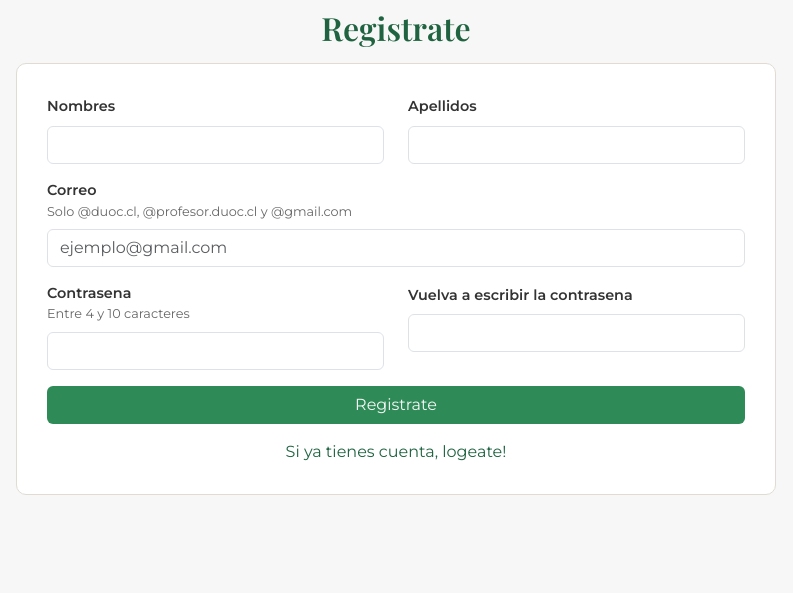
Scenario: Vista Registro › avisa si las contrasenas no coinciden
Type "Ana" into the field labelled "Nombres" at (216, 145), box [47,126,384,164]
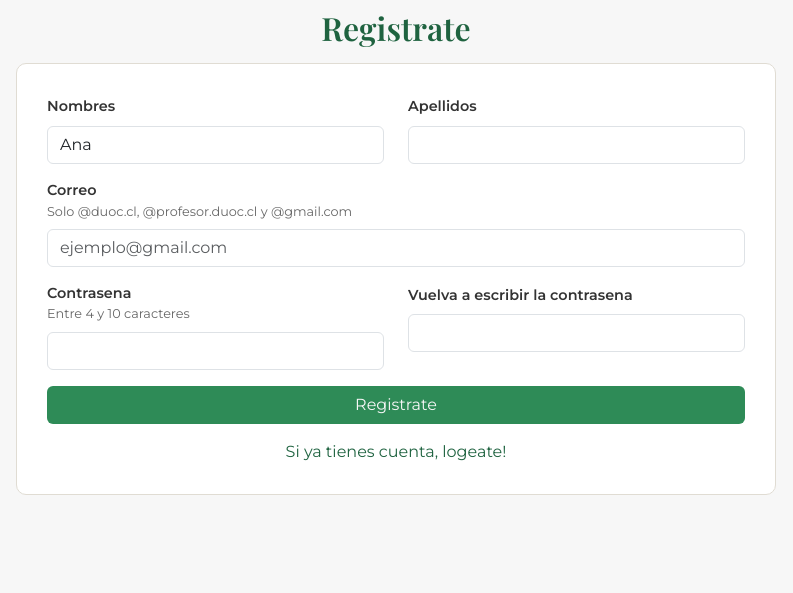
Type "Perez Soto" into the field labelled "Apellidos" at (576, 145), box [408,126,745,164]
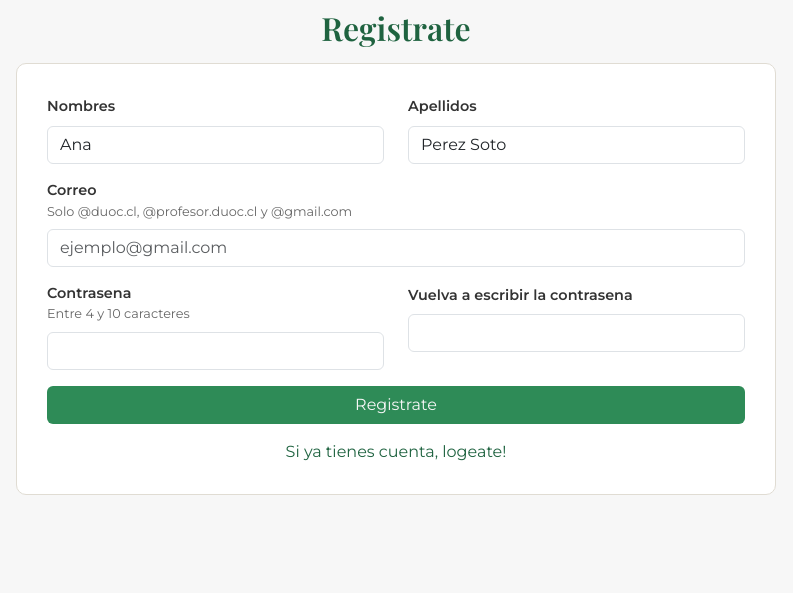
Type "ana@gmail.com" into the field labelled "Correo Solo @duoc.cl, @profesor.duoc.cl y @gmail.com" at (396, 248), box [47,229,745,267]
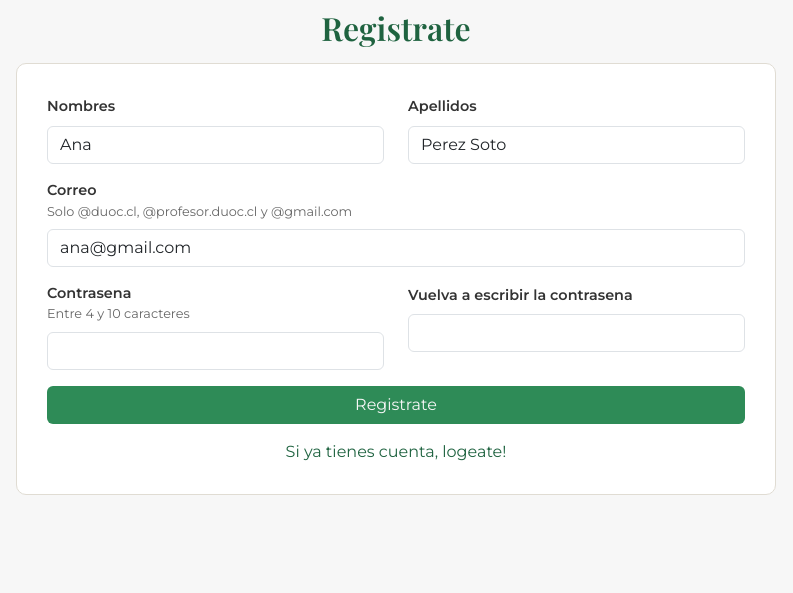
Type "clave1" into the password field labelled "Contrasena Entre 4 y 10 caracteres" at (216, 351), box [47,332,384,370]
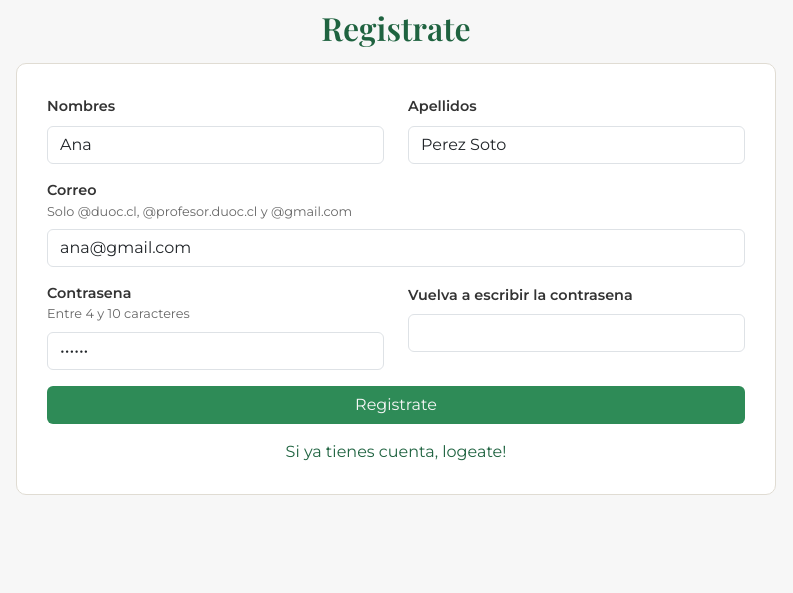
Type "otra1" into the password field labelled "Vuelva a escribir la contrasena" at (576, 333), box [408,314,745,352]
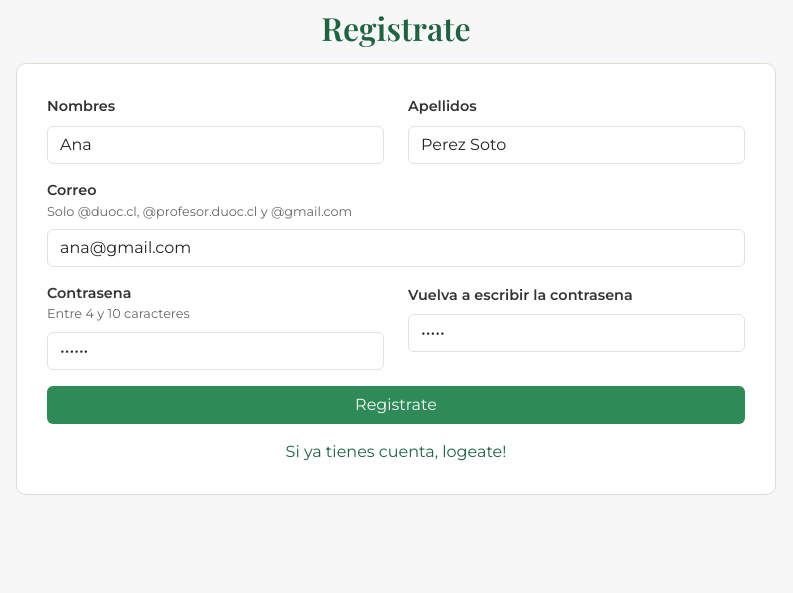
Click the button "Registrate" at (396, 405), box [47,386,745,424]
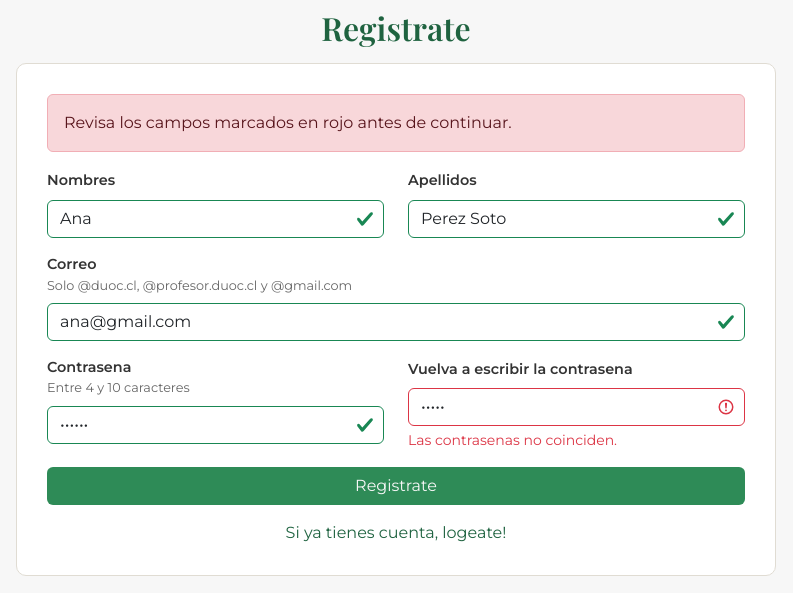
Expected: the text "Las contrasenas no coinciden." is shown, [408,431,617,449]
